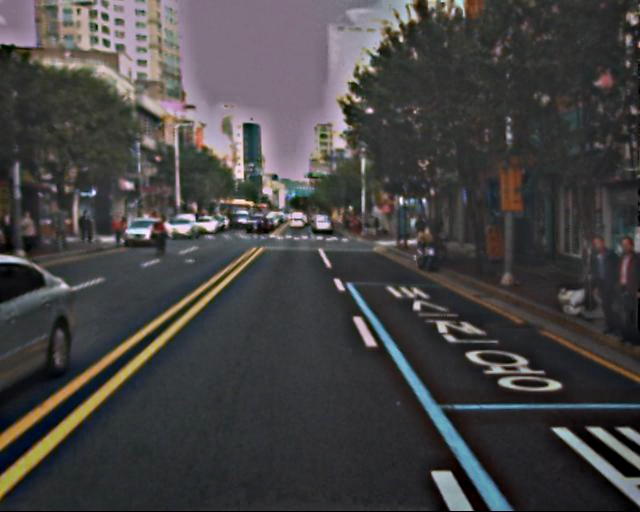person: (577, 235, 640, 340)
